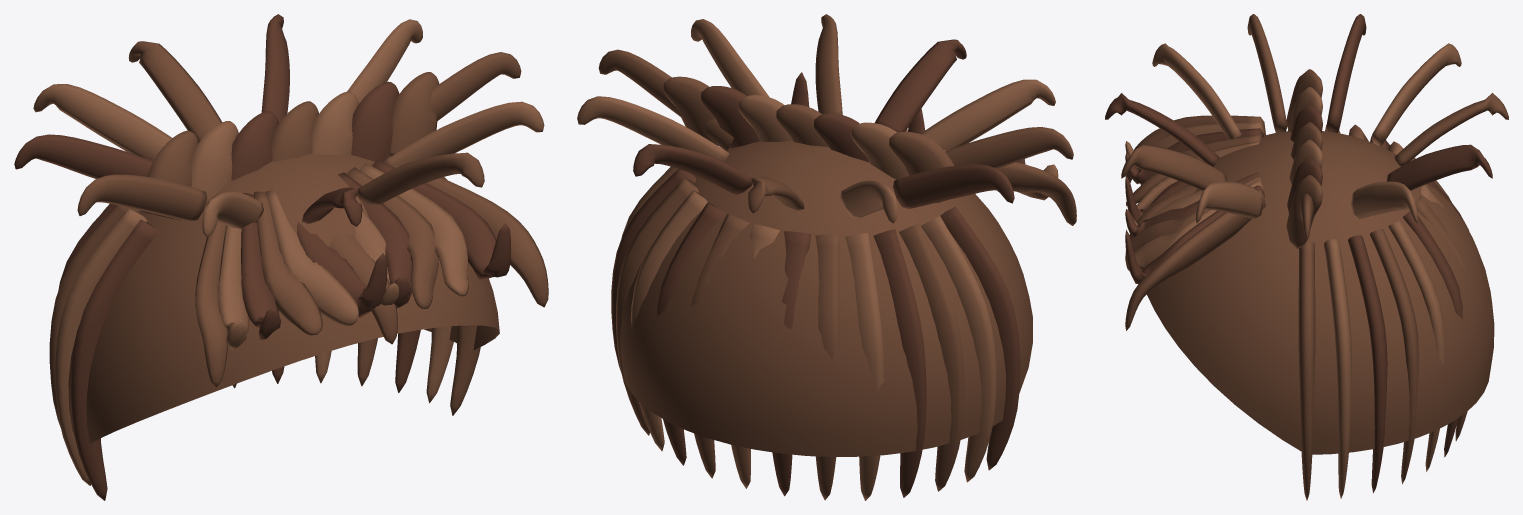
The picture shows the model from 3 angles, left to right: view 1: azimuth 30°, elevation 25°; view 2: azimuth 150°, elevation 25°; view 3: azimuth 270°, elevation 25°; orthographic projection. The views are drawn at different scales.
Visible parts, largest first — view 1: Wild; view 2: Wild; view 3: Wild.
Boxes of the visible parts, box(x1,y1,x2,y2) form: Wild: box(14, 14, 548, 500); Wild: box(577, 14, 1076, 500); Wild: box(1105, 14, 1508, 500).
Bounding box in the file's own units: 1.07 × 0.7553 × 0.8717.
